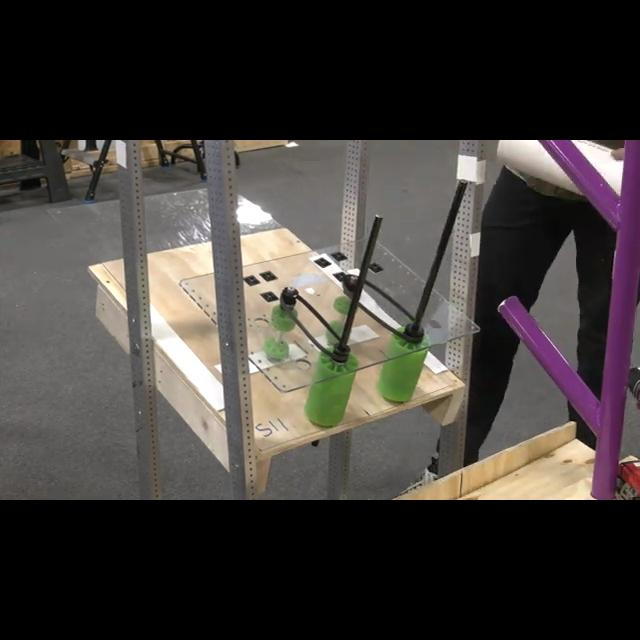CORAL: (495, 140, 623, 196)
